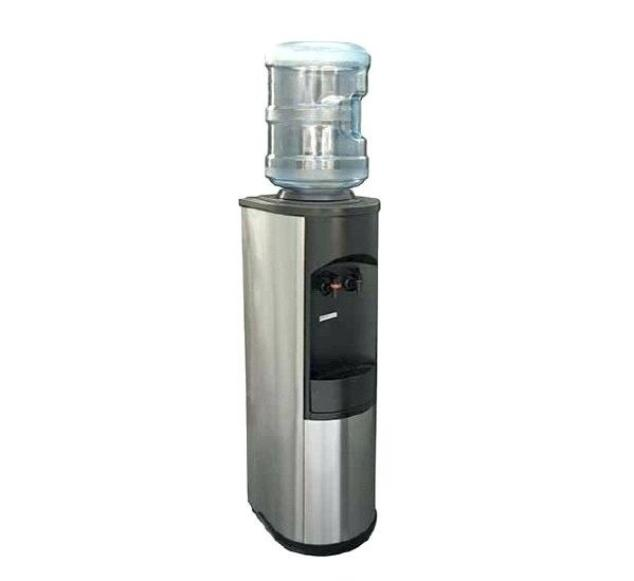Dispenser: (238, 39, 380, 556)
